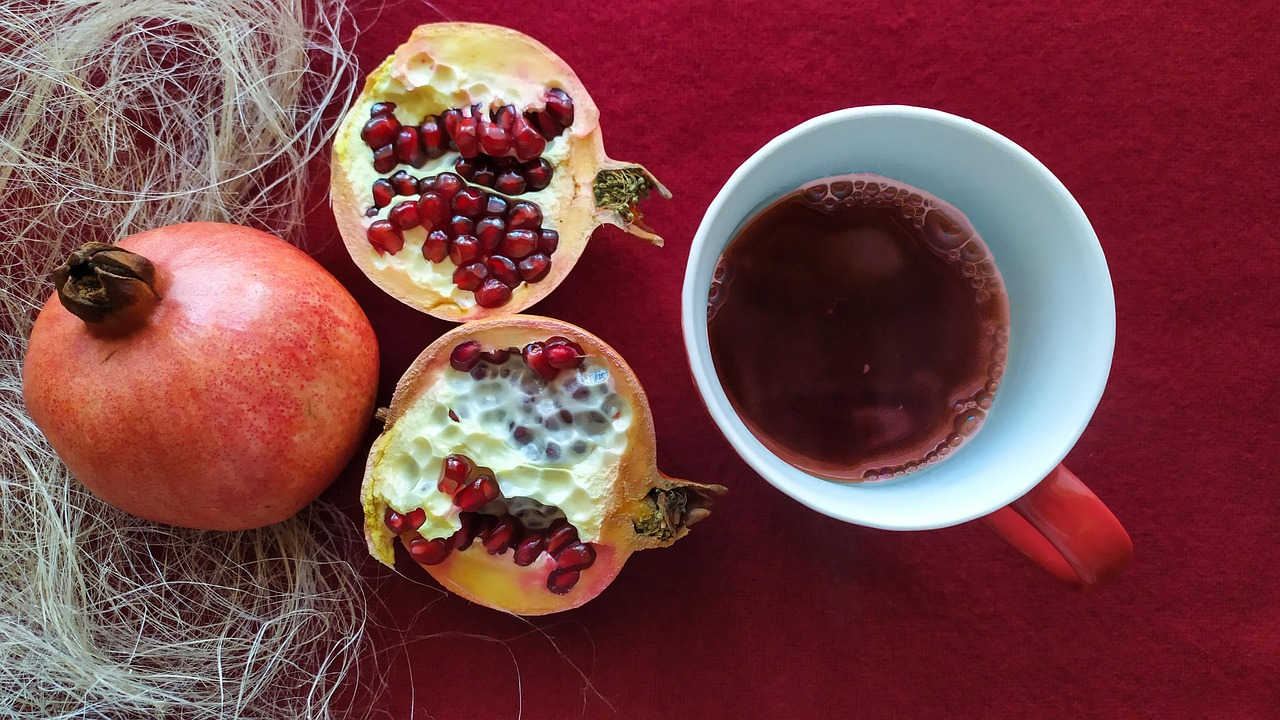mug: (662, 91, 1148, 647)
